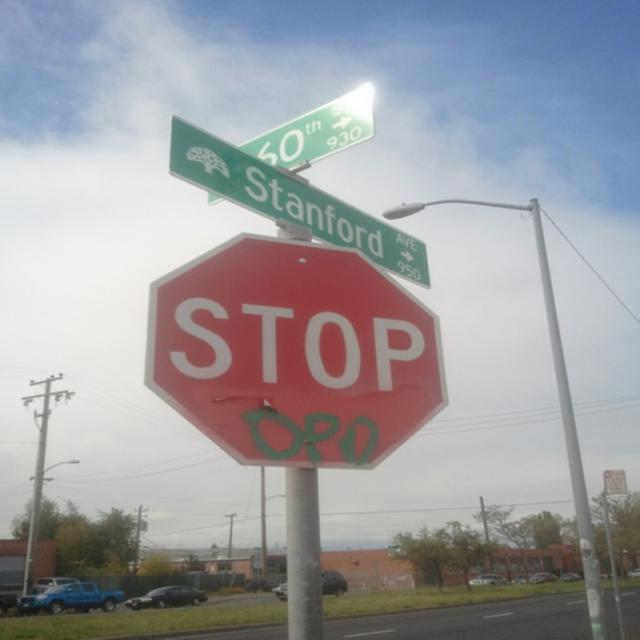car: (124, 584, 207, 609), (28, 575, 79, 593), (466, 572, 510, 587), (528, 571, 556, 582), (508, 571, 532, 582), (561, 573, 576, 580), (629, 568, 639, 576)
pole: (530, 200, 610, 635), (272, 223, 333, 639), (22, 375, 54, 590)
truck: (16, 580, 125, 612), (270, 568, 346, 600)
